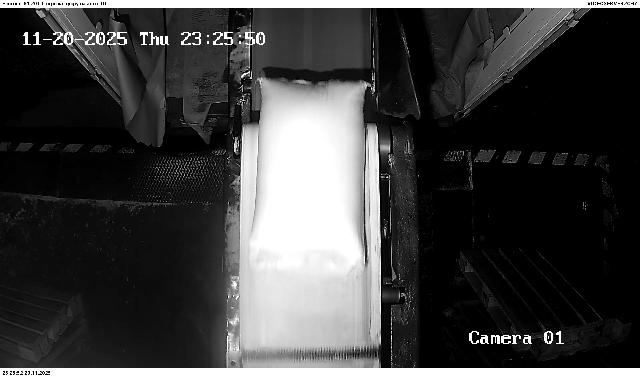bag: (251, 77, 370, 276)
